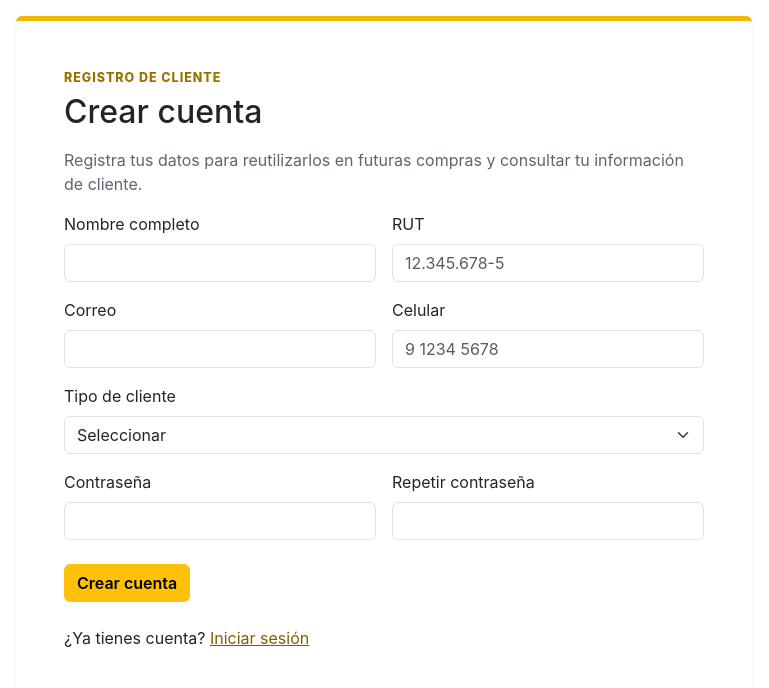
Test case: Integrante 2 - Registro › 11. informa errores personalizados cuando se intenta registrar un formulario inválido
Type "Jo" into the field labelled "Nombre completo". click: (220, 263)
box: [64, 244, 376, 282]
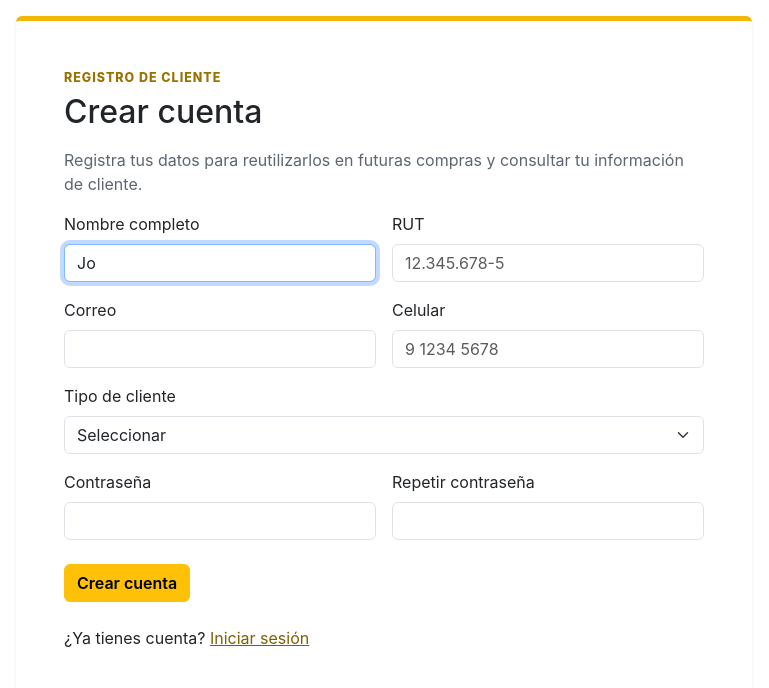
Type "correo-invalido" into the field labelled "Correo". click: (220, 349)
box: [64, 330, 376, 368]
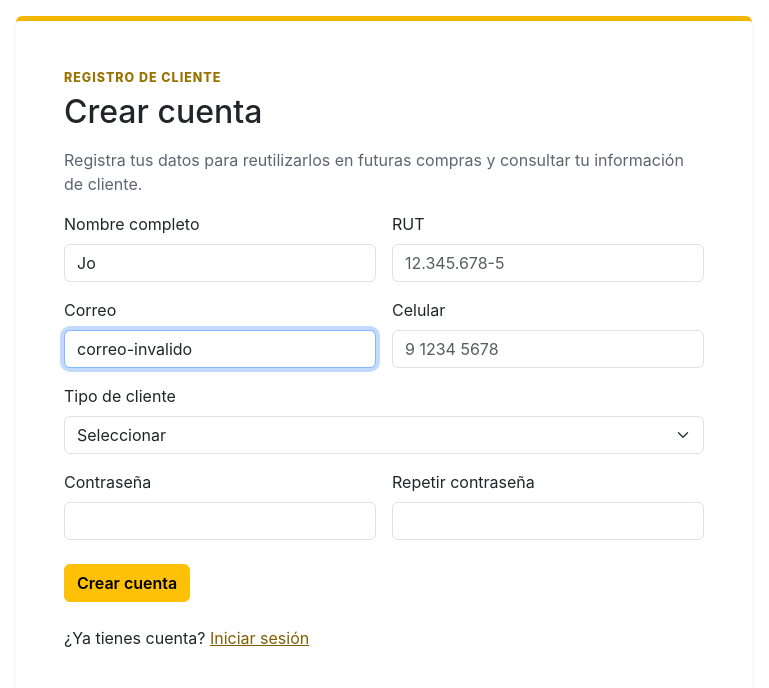
Click the button "Crear cuenta". click: (127, 583)
box: [64, 564, 190, 602]
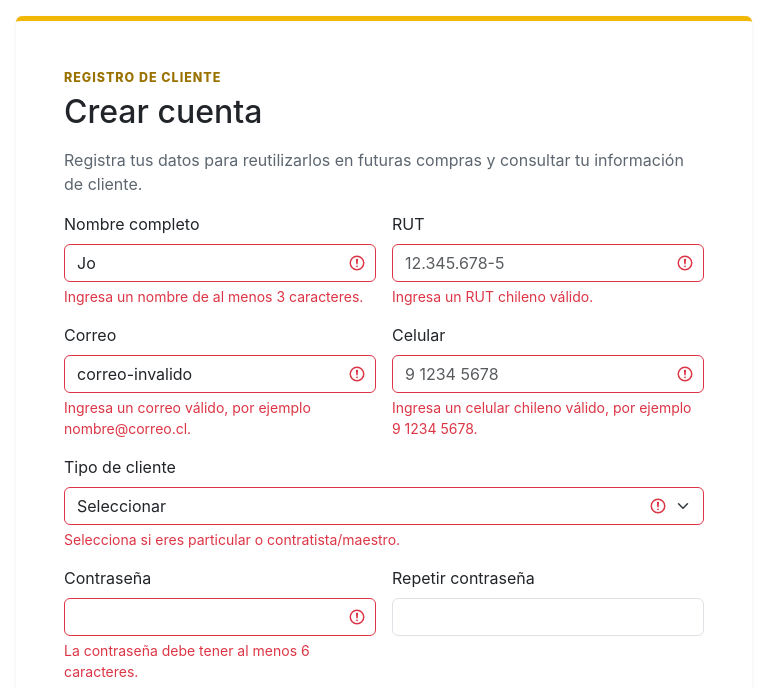
Expected: the text "Ingresa un nombre de al menos 3 caracteres." is shown, [64, 286, 376, 307]
Expected: the text "Ingresa un RUT chileno válido." is shown, [392, 288, 593, 305]
Expected: the text "Ingresa un correo válido, por ejemplo nombre@correo.cl." is shown, [64, 399, 311, 437]
